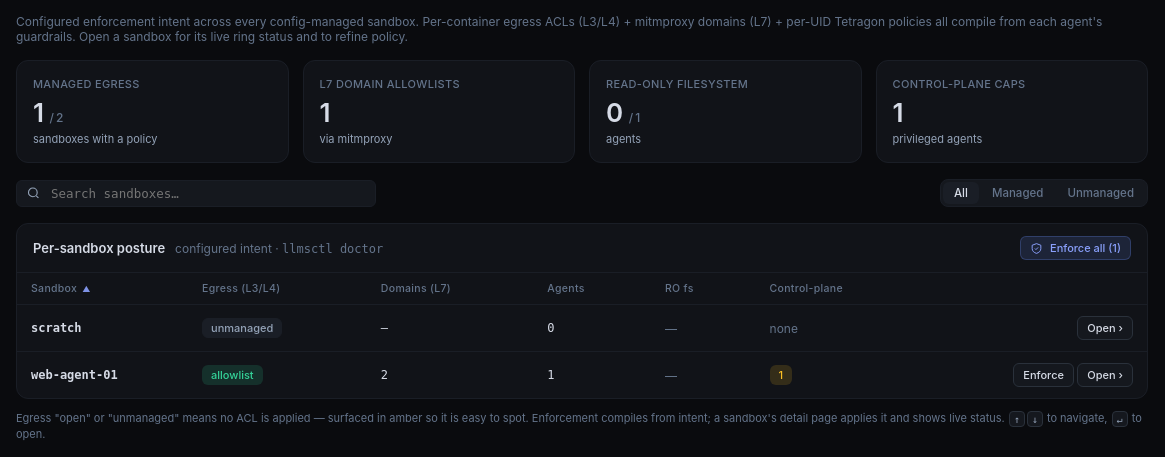
Test: Security › filters the matrix by search and posture
Expected: the text "web-agent-01" is shown, top-left (17, 352), bottom-right (188, 398)
# Search narrows to the matching sandbox.
Type "scratch" into the field with placeholder "Search sandboxes…" at (207, 193), box top-left (49, 184), bottom-right (366, 202)
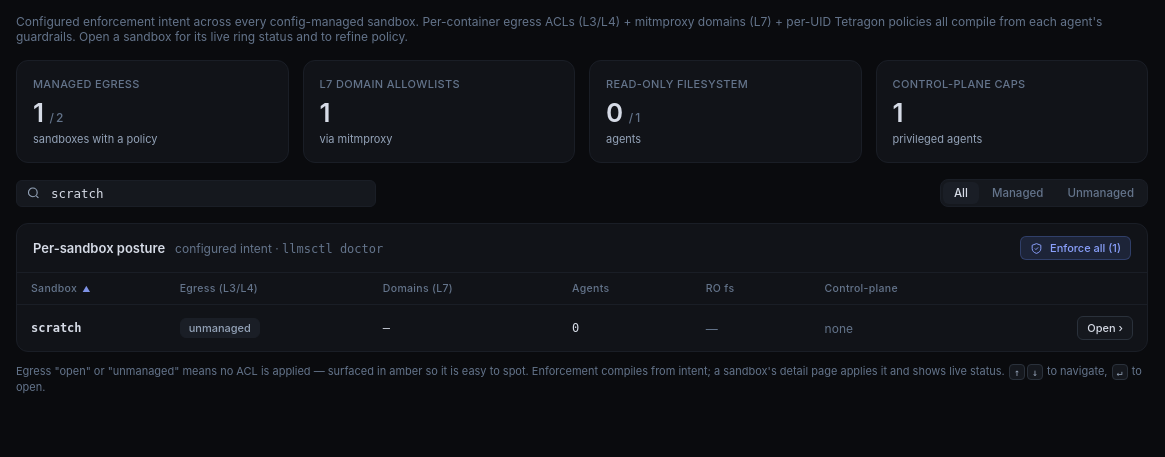
Expected: the text "scratch" is shown, top-left (17, 304), bottom-right (166, 351)
Expected: the text "web-agent-01" is gone
# Managed filter drops the unmanaged one.
Clear the field with placeholder "Search sandboxes…" at (207, 193), box top-left (49, 184), bottom-right (366, 202)
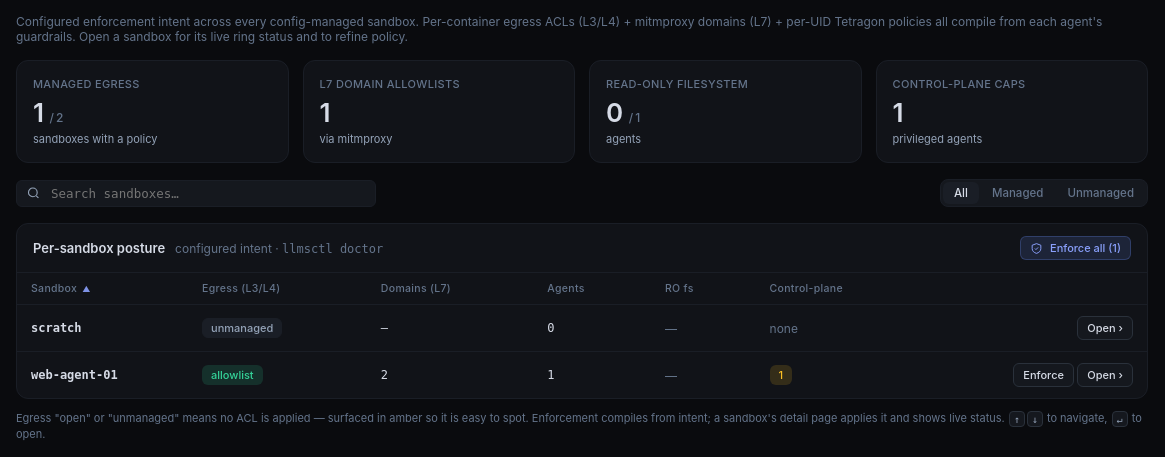
Click the button "Managed" at (1018, 193), box top-left (981, 182), bottom-right (1054, 204)
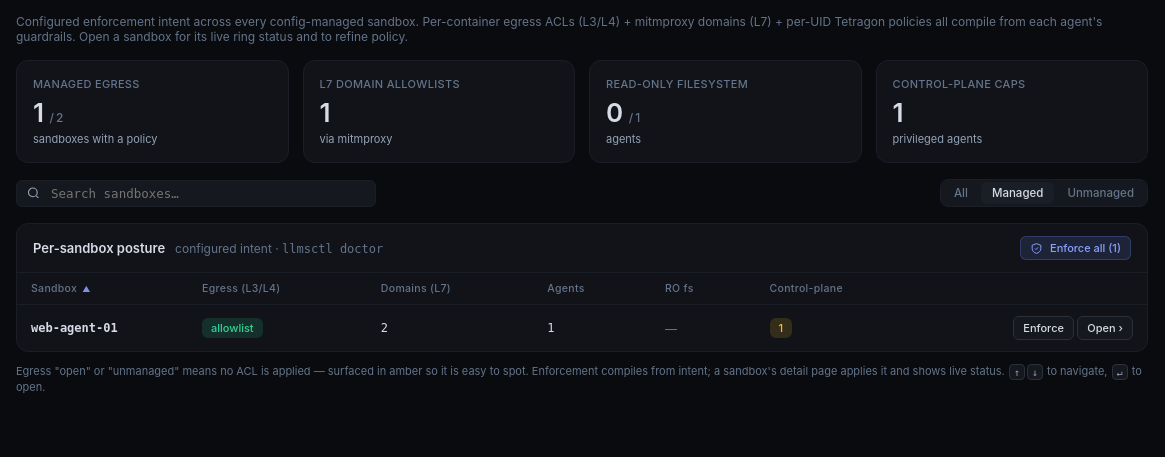
Expected: the text "web-agent-01" is shown, top-left (17, 304), bottom-right (188, 351)
Expected: the text "scratch" is gone
